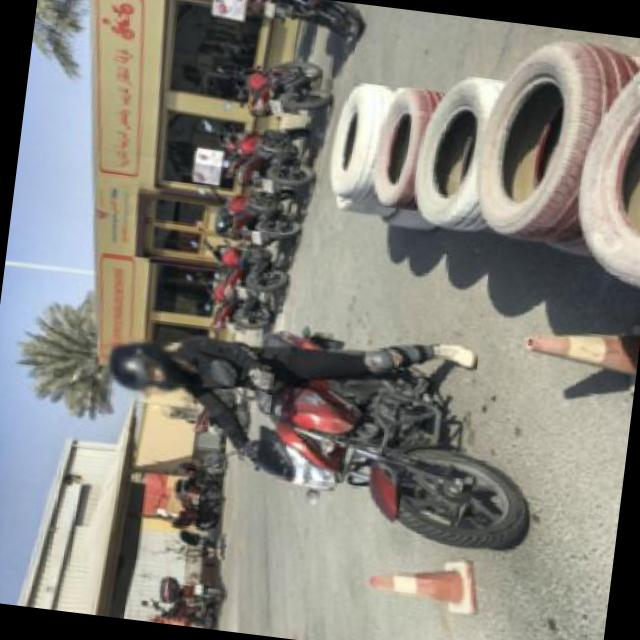With Helmet: (98, 331, 202, 406)
